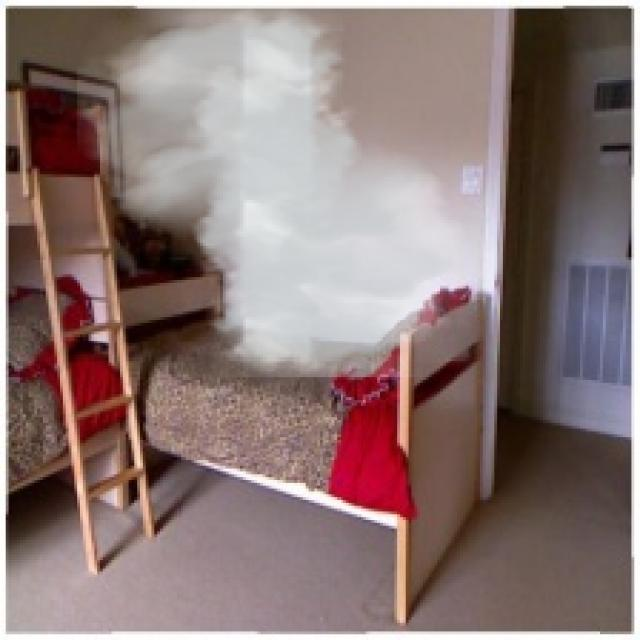Smoke: (77, 6, 477, 377)
